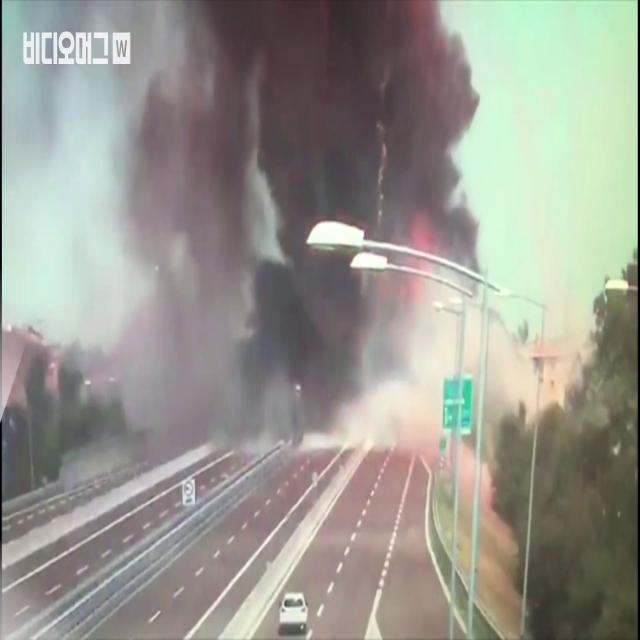explosion: (159, 6, 524, 532)
